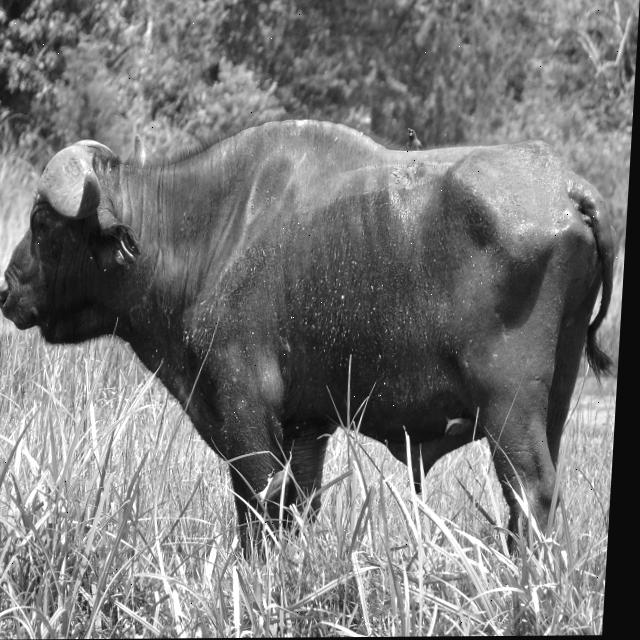Buffalo: (0, 127, 620, 589)
